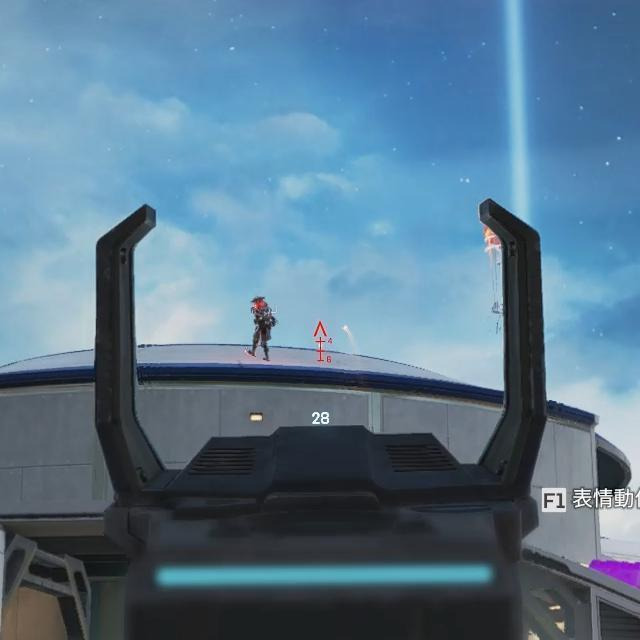avatar: (247, 294, 278, 362)
